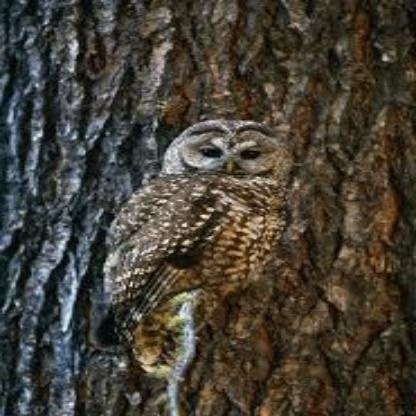Owl: (110, 121, 281, 337)
